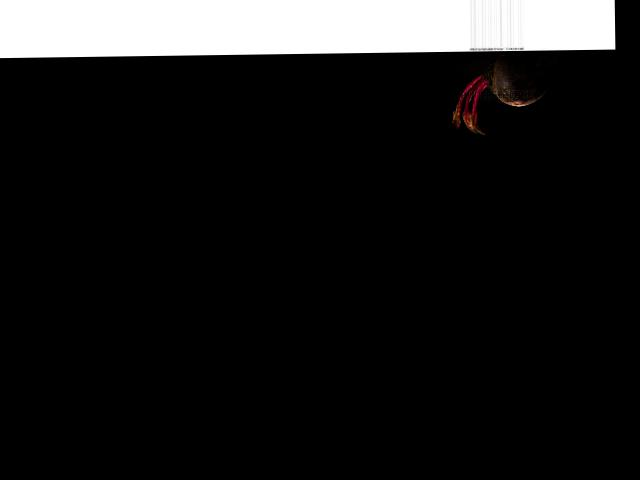beet: (451, 50, 565, 134)
